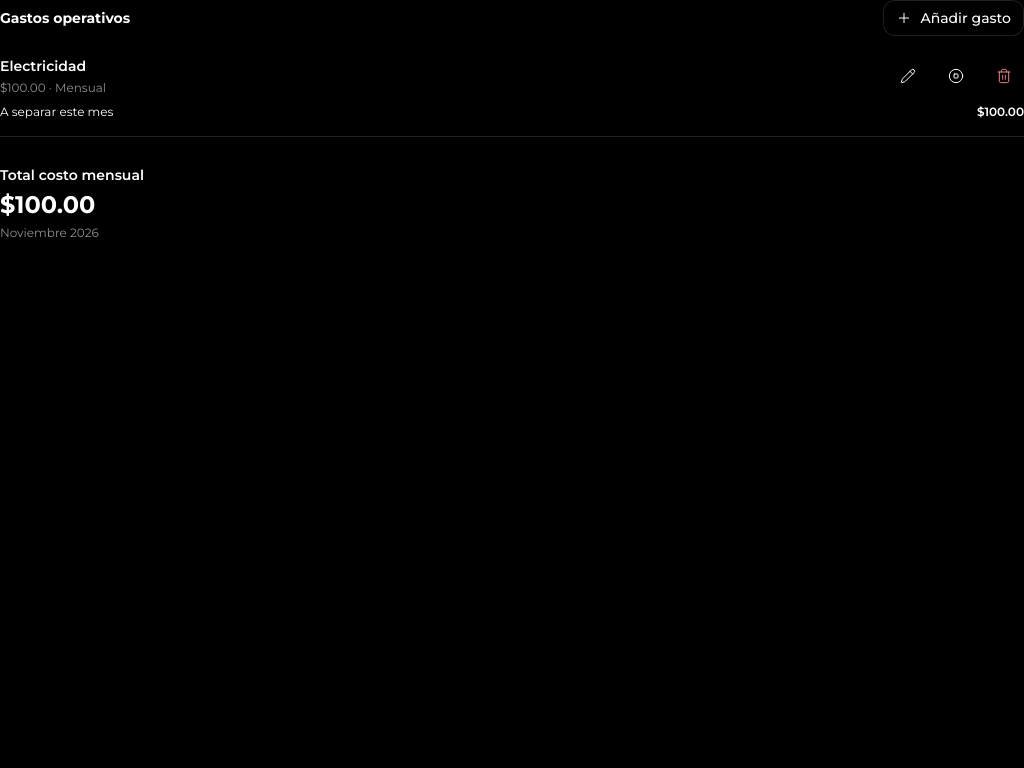
Test: permanent expense deletion › failed deletion keeps the expense
The image size is (1024, 768).
Later steps or results of the test are not shown.
Click the button named "Eliminar Electricidad" at (1004, 76), box [984,56,1023,96]
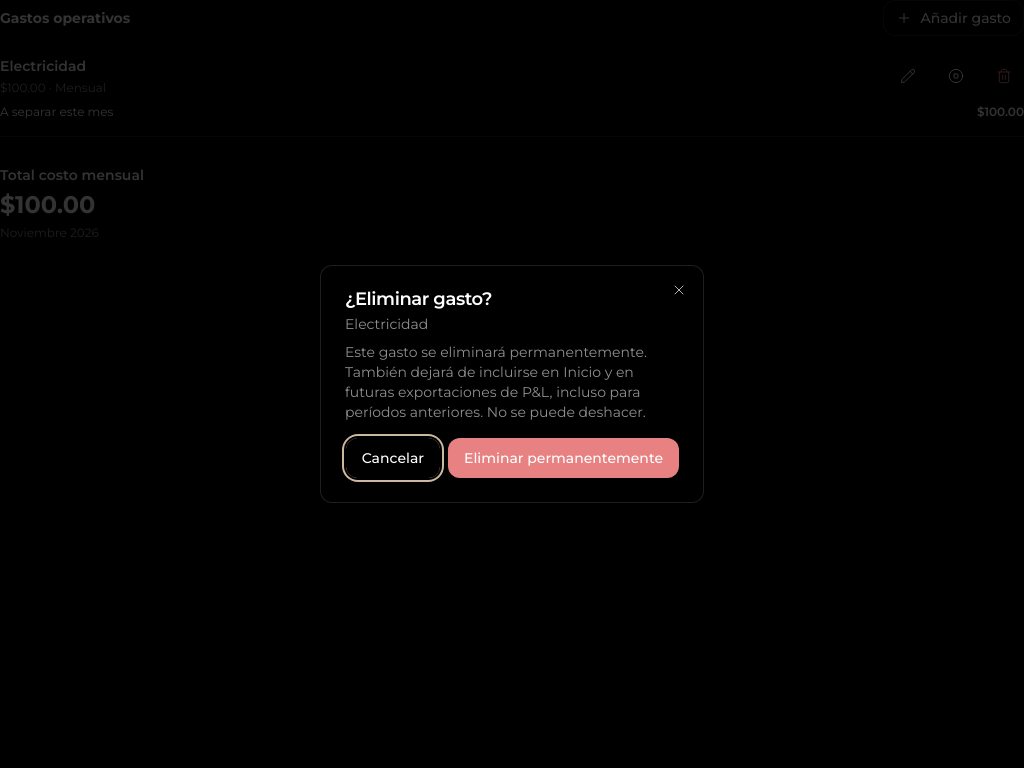
Click the button "Eliminar permanentemente" at (564, 458), box [448,438,679,478]
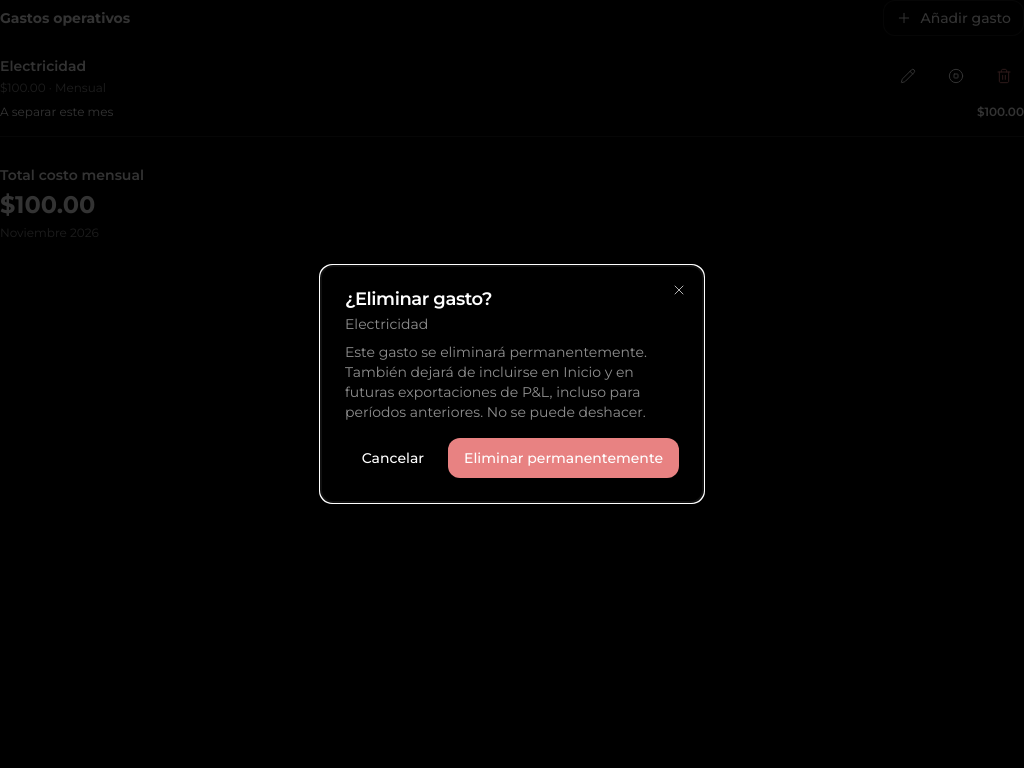
Expected: the button "Eliminar permanentemente" is enabled, [448,438,679,478]
